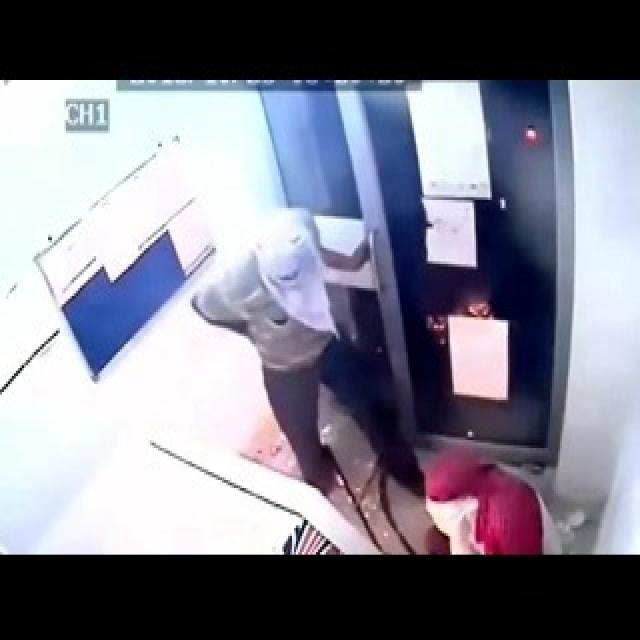thief: (223, 224, 409, 496), (426, 430, 551, 555)
